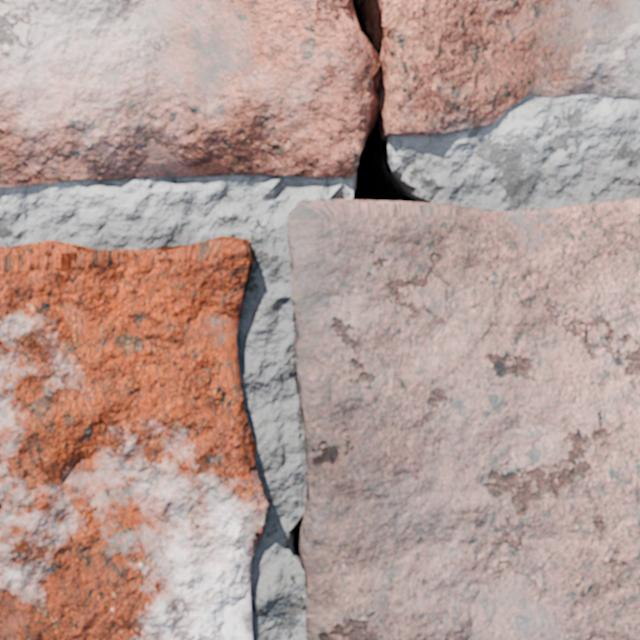broken_brick: (0, 0, 373, 186), (382, 0, 639, 135)
crack: (288, 0, 639, 639), (0, 236, 269, 639), (177, 175, 195, 177)
